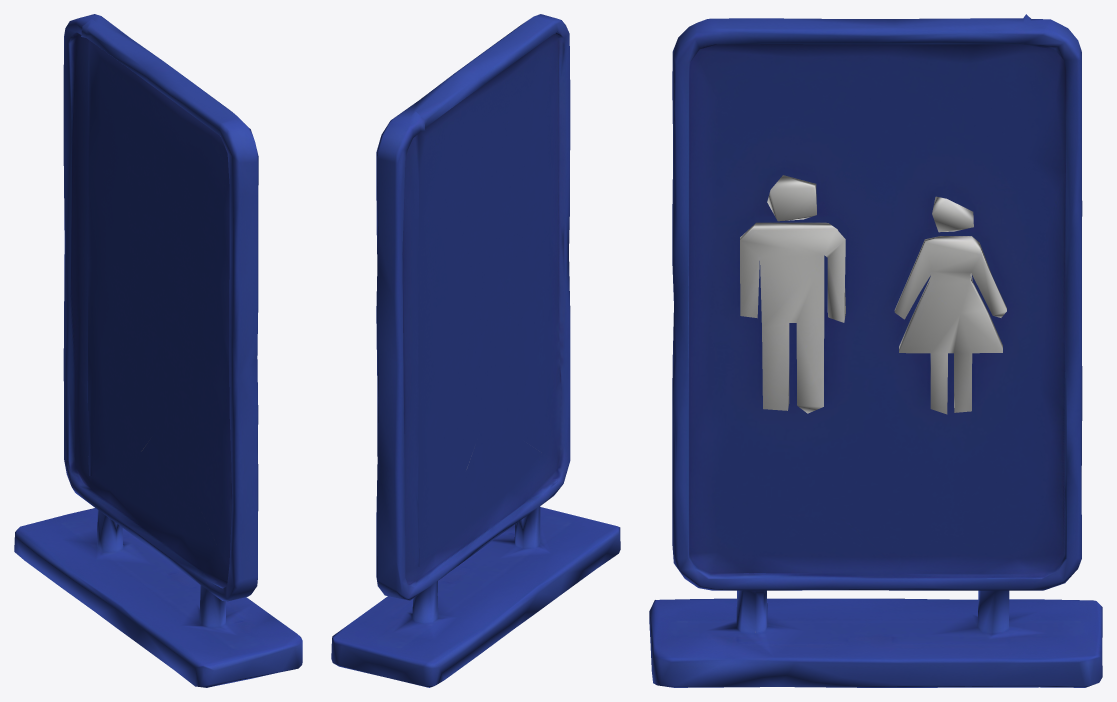
Rendered from restroom-sign.glb.
3 views of the same model, side by side, from view 1: azimuth 30°, elevation 25°; view 2: azimuth 150°, elevation 25°; view 3: azimuth 270°, elevation 25° (orthographic). The views are drawn at different scales.
Visible parts, largest first — view 1: tripo_node_a8b9d528-805e-4c4b-9748-f9162862215a; view 2: tripo_node_a8b9d528-805e-4c4b-9748-f9162862215a; view 3: tripo_node_a8b9d528-805e-4c4b-9748-f9162862215a.
Part boxes in pixels (<box>): tripo_node_a8b9d528-805e-4c4b-9748-f9162862215a: <box>14,14,302,687</box>; tripo_node_a8b9d528-805e-4c4b-9748-f9162862215a: <box>331,14,620,687</box>; tripo_node_a8b9d528-805e-4c4b-9748-f9162862215a: <box>649,14,1102,687</box>.
Size of the model in its own units: 0.2089 by 1 by 0.6402.
1 material, 1 textured.
